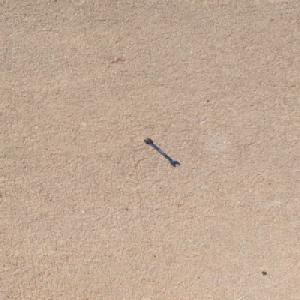Wrench: (143, 137, 180, 166)
